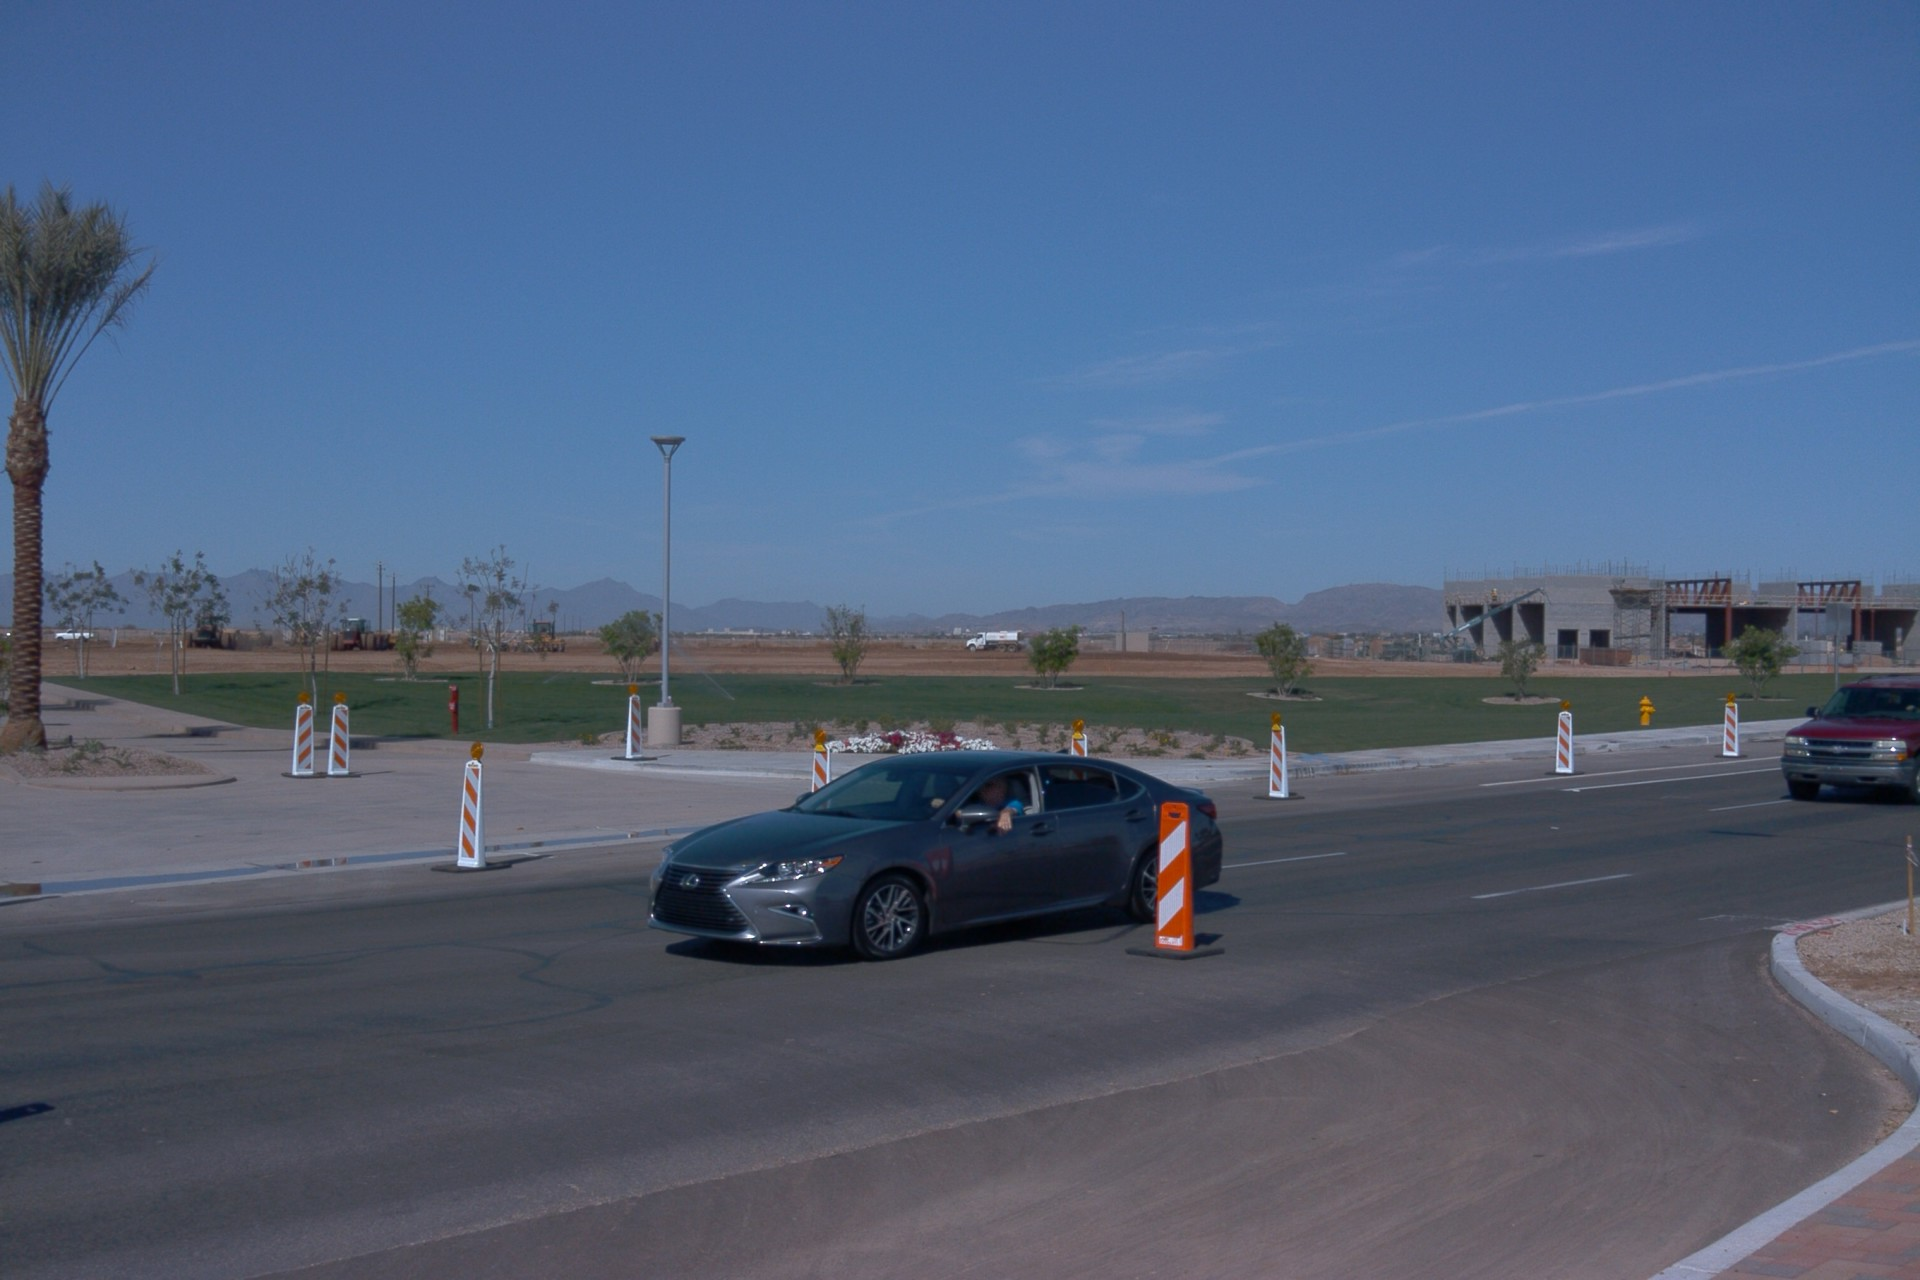TYPE_PEDESTRIAN: (511, 636, 522, 653), (472, 638, 479, 651)
TYPE_VEHICLE: (646, 751, 1225, 966), (1780, 672, 1920, 807), (1433, 585, 1546, 657), (328, 617, 404, 655), (181, 612, 231, 655), (963, 629, 1026, 652), (281, 622, 314, 645), (52, 628, 96, 644)
